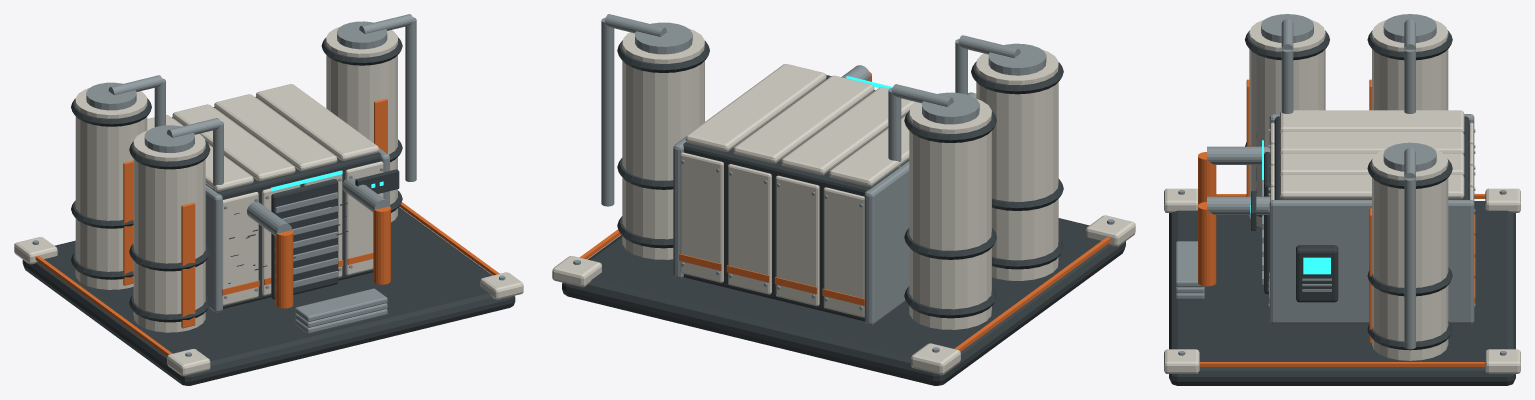
File: SM_GroundwaterPump_Body.fbx
3 renders of one model, left to right at view 1: azimuth 30°, elevation 25°; view 2: azimuth 150°, elevation 25°; view 3: azimuth 270°, elevation 25°, orthographic. The views are drawn at different scales.
Visible parts, largest first — view 1: SM_GroundwaterPump_Body; view 2: SM_GroundwaterPump_Body; view 3: SM_GroundwaterPump_Body.
Part boxes in pixels (x1,y1,x2,y2): SM_GroundwaterPump_Body: (14,14,523,385); SM_GroundwaterPump_Body: (552,14,1135,385); SM_GroundwaterPump_Body: (1164,14,1520,385).
Bounding box in the file's own units: 503 × 422 × 287.
